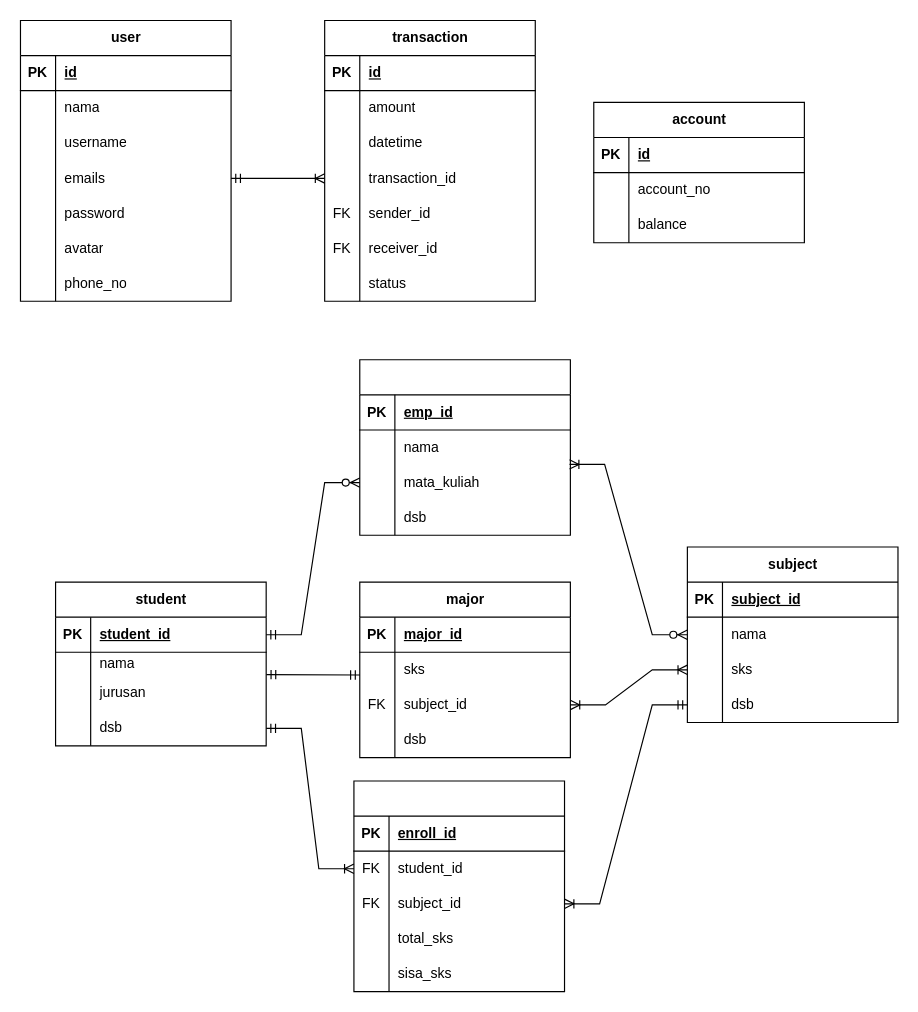
This 918x1012 diagram has some shape labels left out. Here are the shapes that lost their labels. From the top down, the box of each, then its label:
(359, 359, 570, 535): teacher
(353, 780, 565, 992): KRS
